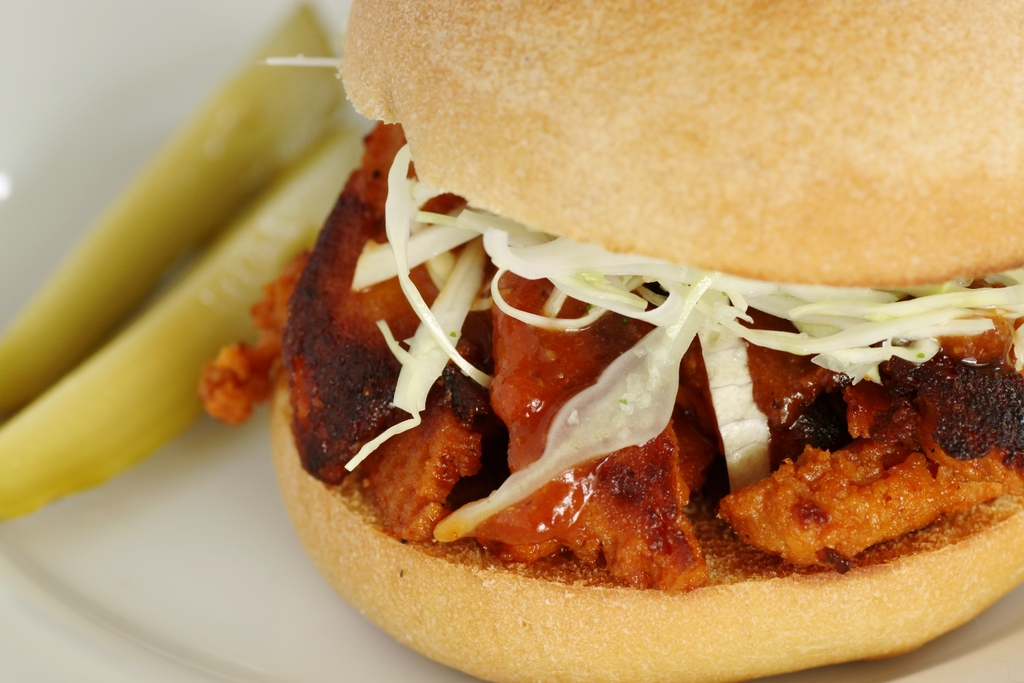Hamburger: (198, 0, 1023, 682)
